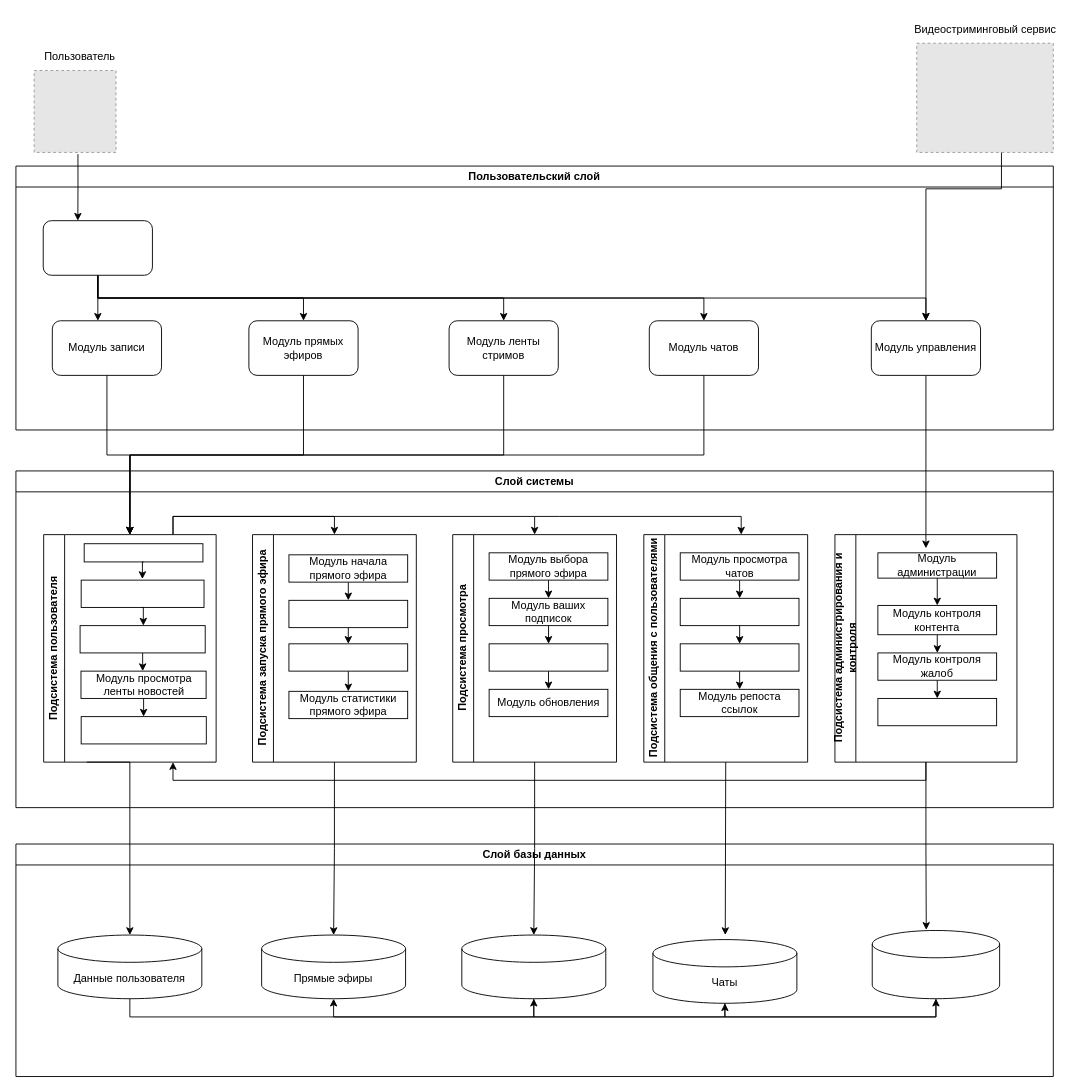
This 1083x1092 diagram has some shape labels left out. Grey dashed boxes stand in for pictures. The shapes that lost their labels are listed below. From the top down, each one's centre as x and y in pixels, then its label:
At pixel 97 247: "Регистрация".
At pixel 143 552: "Модуль пользователя".
At pixel 142 593: "Модуль загрузки и обработки видео".
At pixel 348 613: "Модуль баннеров".
At pixel 739 611: "Модуль комментариев".
At pixel 142 639: "Модуль запуска прямого эфира".
At pixel 348 657: "Модуль окончания прямого эфира".
At pixel 548 657: "Модуль рекомендаций".
At pixel 739 657: "Модуль отправки сообщений".
At pixel 143 730: "Модуль общения с пользователями".
At pixel 937 712: "Модуль блокировки пользователей".
At pixel 533 966: "Лента других стримов".
At pixel 935 964: "Контент".
